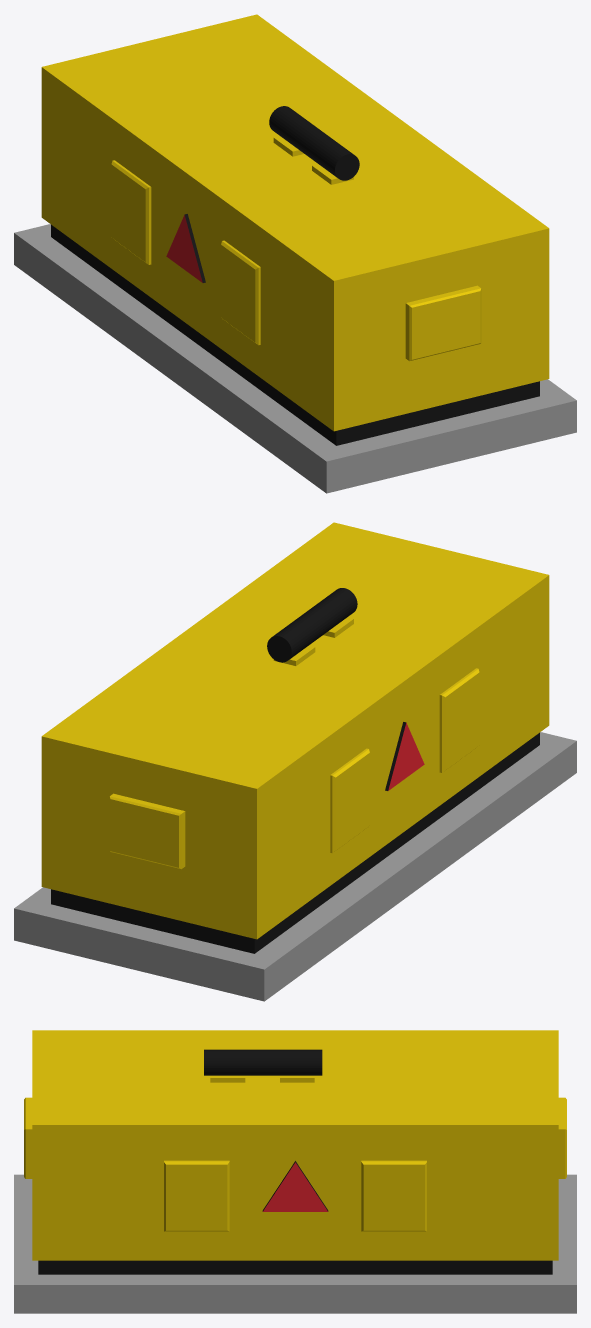
Rendered from Generator.fbx.
3 views of the same model, one above another, from view 1: azimuth 30°, elevation 25°; view 2: azimuth 150°, elevation 25°; view 3: azimuth 270°, elevation 25° (orthographic). The views are drawn at different scales.
Parts seen in each view (by area): view 1: Cube; view 2: Cube; view 3: Cube.
Boxes of the visible parts, left/top/right/bottom form: Cube: left=14, top=14, right=576, bottom=493; Cube: left=14, top=522, right=576, bottom=1001; Cube: left=14, top=1030, right=576, bottom=1313.
Size of the model in its own units: 440 by 388 by 951.
